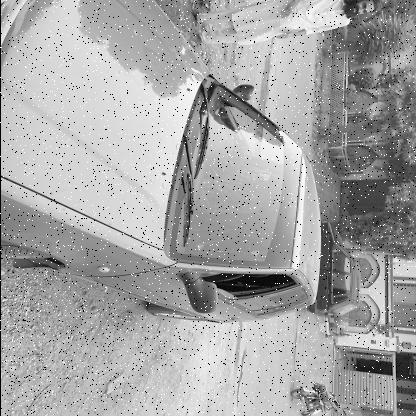no_seatbelt: (216, 168, 282, 202)
